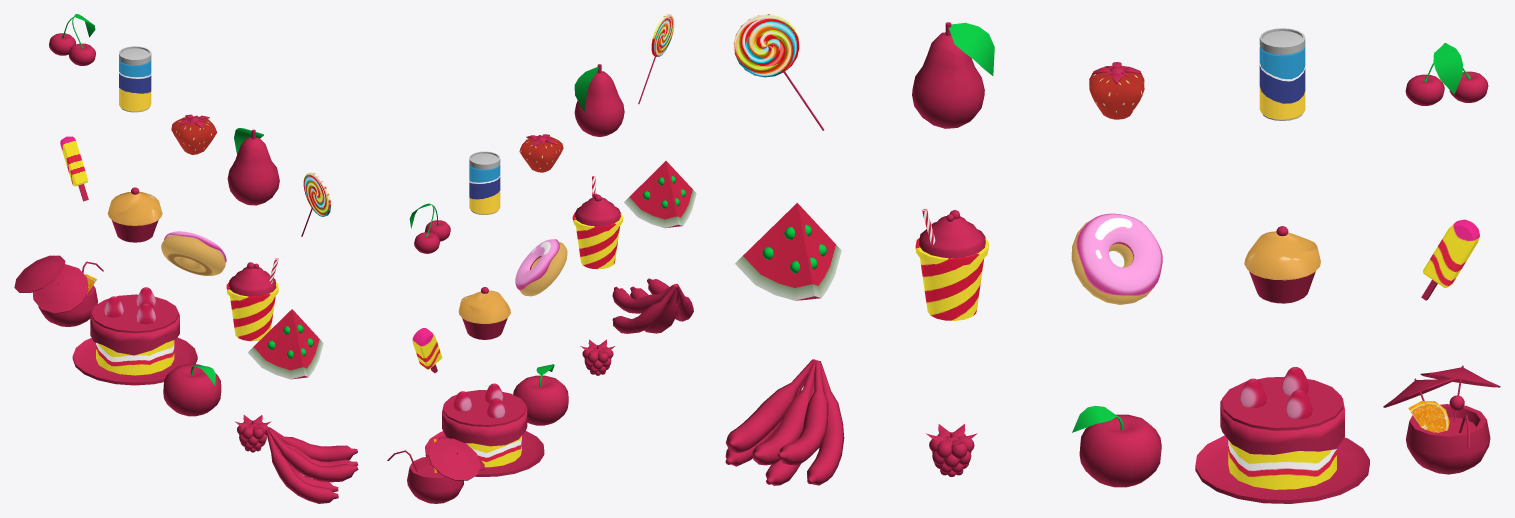
File: Yummy_low_poly_pack.glb
The picture shows the model from 3 angles, left to right: view 1: azimuth 30°, elevation 25°; view 2: azimuth 150°, elevation 25°; view 3: azimuth 270°, elevation 25°; orthographic projection. The views are drawn at different scales.
Visible parts, largest first — view 1: unnamed (×25); view 2: unnamed (×28); view 3: unnamed (×28).
Part boxes in pixels (x1,y1,x2,y2): unnamed (×25): (14,33,358,503); unnamed (×28): (407,14,696,491); unnamed (×28): (725,14,1490,503).
Bounding box in the file's own units: 1.59 × 4.67 × 7.03.
Materials: 16 (13 with a texture image).
